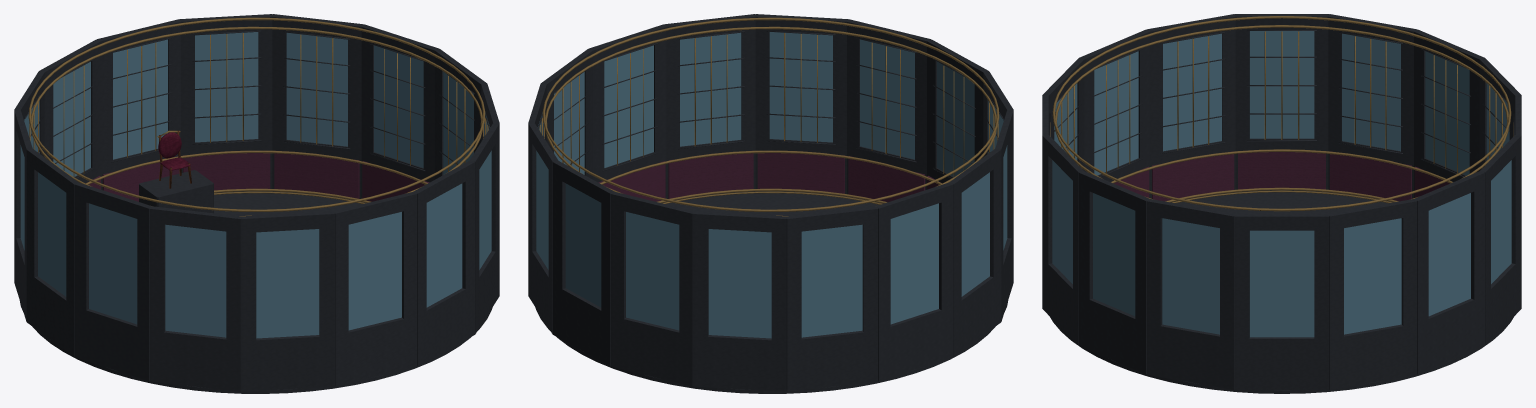
The model's file is court3d__courtroom_stage.glb.
3 views of the same model, side by side, from view 1: azimuth 30°, elevation 25°; view 2: azimuth 150°, elevation 25°; view 3: azimuth 270°, elevation 25° (orthographic).
Visible parts, largest first — view 1: Rebuilt_courtroom_stage; view 2: Rebuilt_courtroom_stage; view 3: Rebuilt_courtroom_stage.
Part boxes in pixels (bbox=[...]): Rebuilt_courtroom_stage: bbox=[14, 14, 499, 393]; Rebuilt_courtroom_stage: bbox=[528, 14, 1013, 393]; Rebuilt_courtroom_stage: bbox=[1042, 14, 1521, 393].
Bounding box in the file's own units: 26.05 × 10.81 × 26.05.
6 materials, 5 textured.
